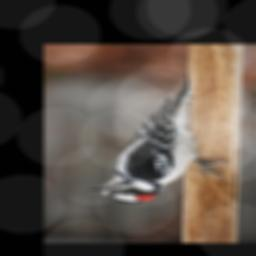Woodpecker: (88, 75, 229, 203)
